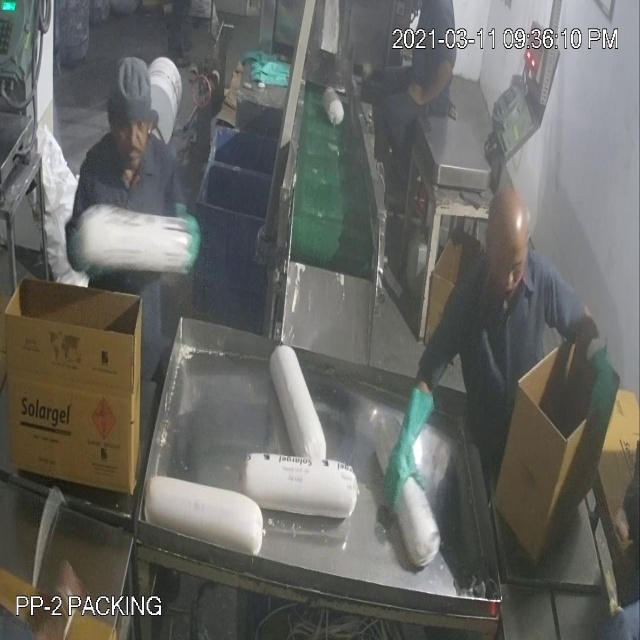Guantes: (377, 369, 437, 520), (580, 326, 619, 442)
Sin_guantes: (403, 53, 466, 119)
